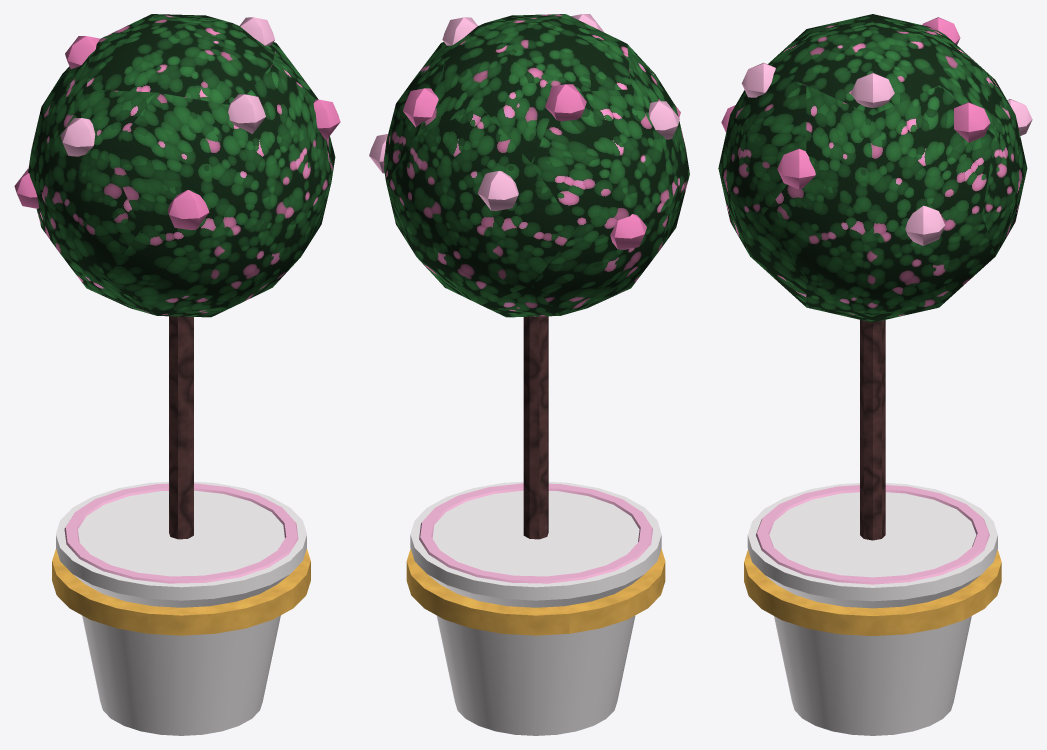
The model's file is citadel_topiary.glb.
3 renders of one model, left to right at view 1: azimuth 30°, elevation 25°; view 2: azimuth 150°, elevation 25°; view 3: azimuth 270°, elevation 25°, orthographic.
Parts seen in each view (by area): view 1: citadel_topiary; view 2: citadel_topiary; view 3: citadel_topiary.
Part boxes in pixels (left/top/right/bottom): citadel_topiary: left=14, top=14, right=340, bottom=735; citadel_topiary: left=369, top=14, right=689, bottom=735; citadel_topiary: left=718, top=14, right=1032, bottom=735.
Size of the model in its own units: 0.8633 by 2.02 by 0.8542.
6 materials, 3 textured.
